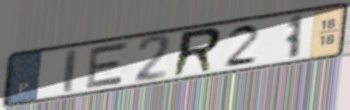1: (285, 11, 307, 61)
2: (132, 31, 174, 88), (220, 23, 264, 68)
E: (83, 39, 132, 91)
I: (62, 47, 79, 95)
R: (169, 25, 225, 79)
